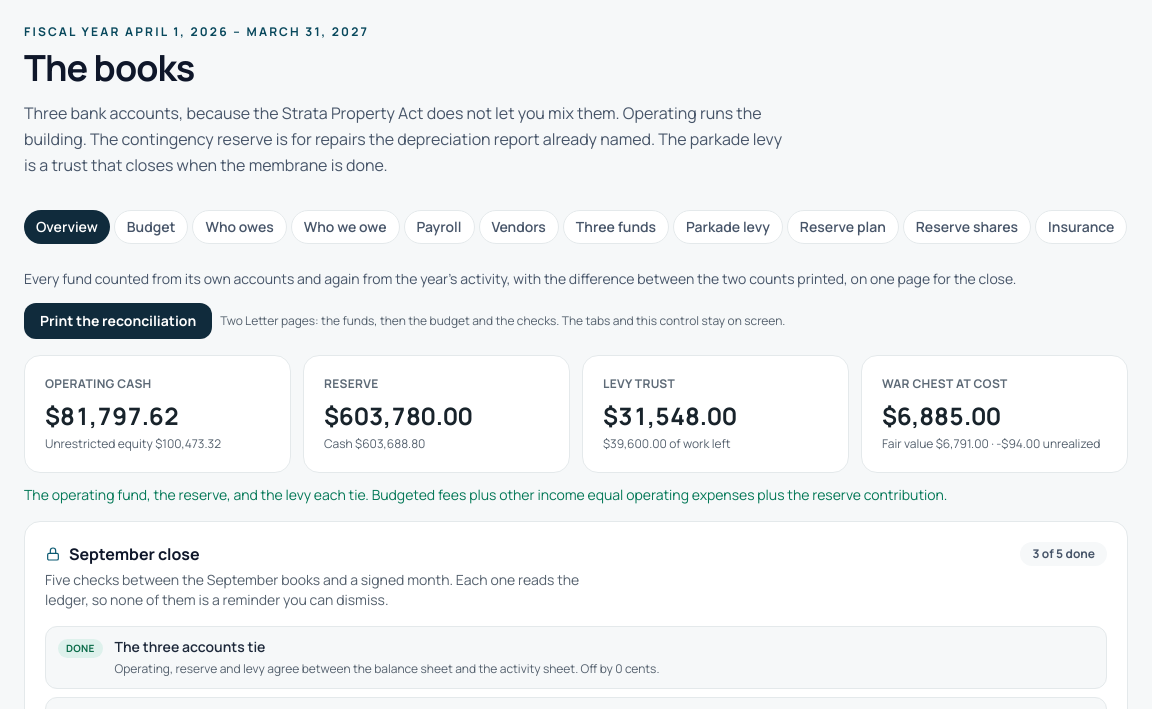
Test case: /accounting budget › prints the reason a line moved beside its variance
Click the button "Budget".
click(151, 227)  # box [114,210,188,244]
(page scrolled)
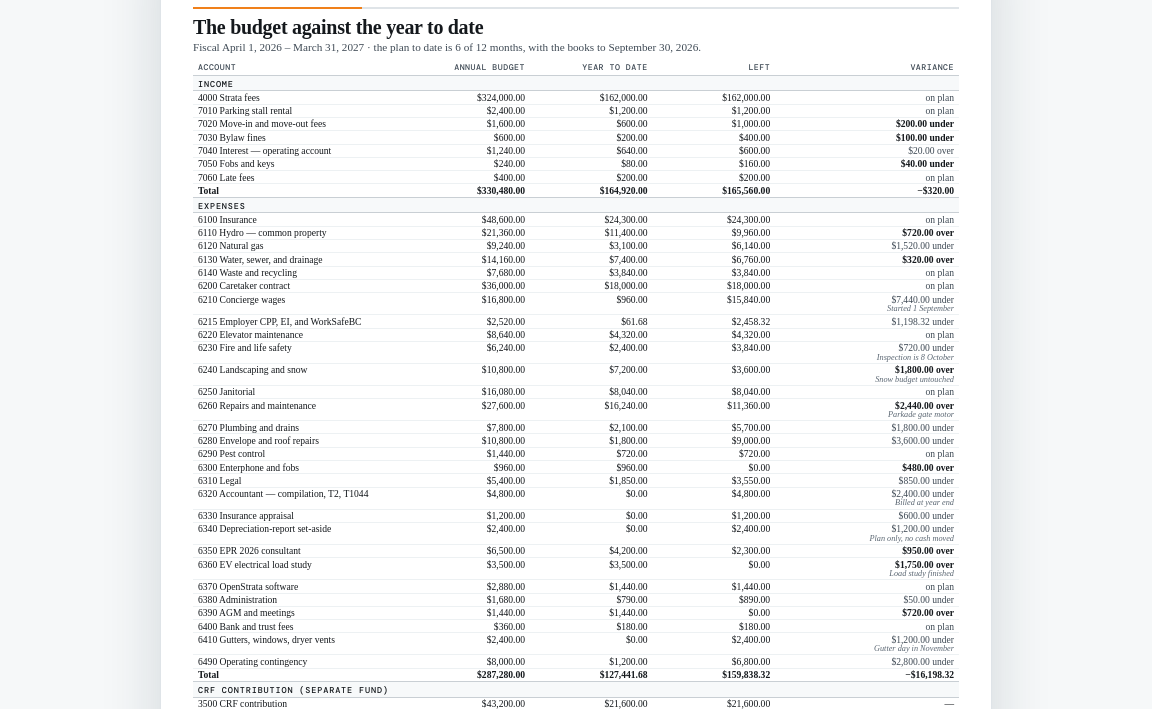
Check: the row that starts with "6260 Repairs and maintenance" shows "Parkade gate motor", box [888,410,954,419]
Check: the row that starts with "6210 Concierge wages" shows "Started 1 September", box [887,304,954,313]
Check: the row that starts with "6230 Fire and life safety" shows "Inspection is 8 October", box [877,353,954,362]
